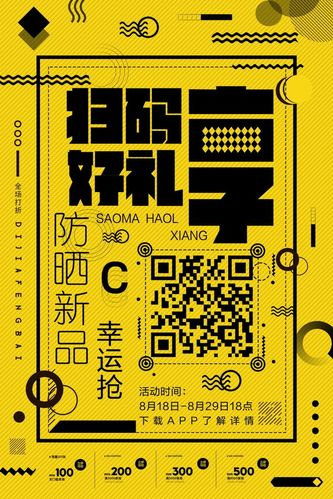QRCode: (146, 253, 257, 360)
